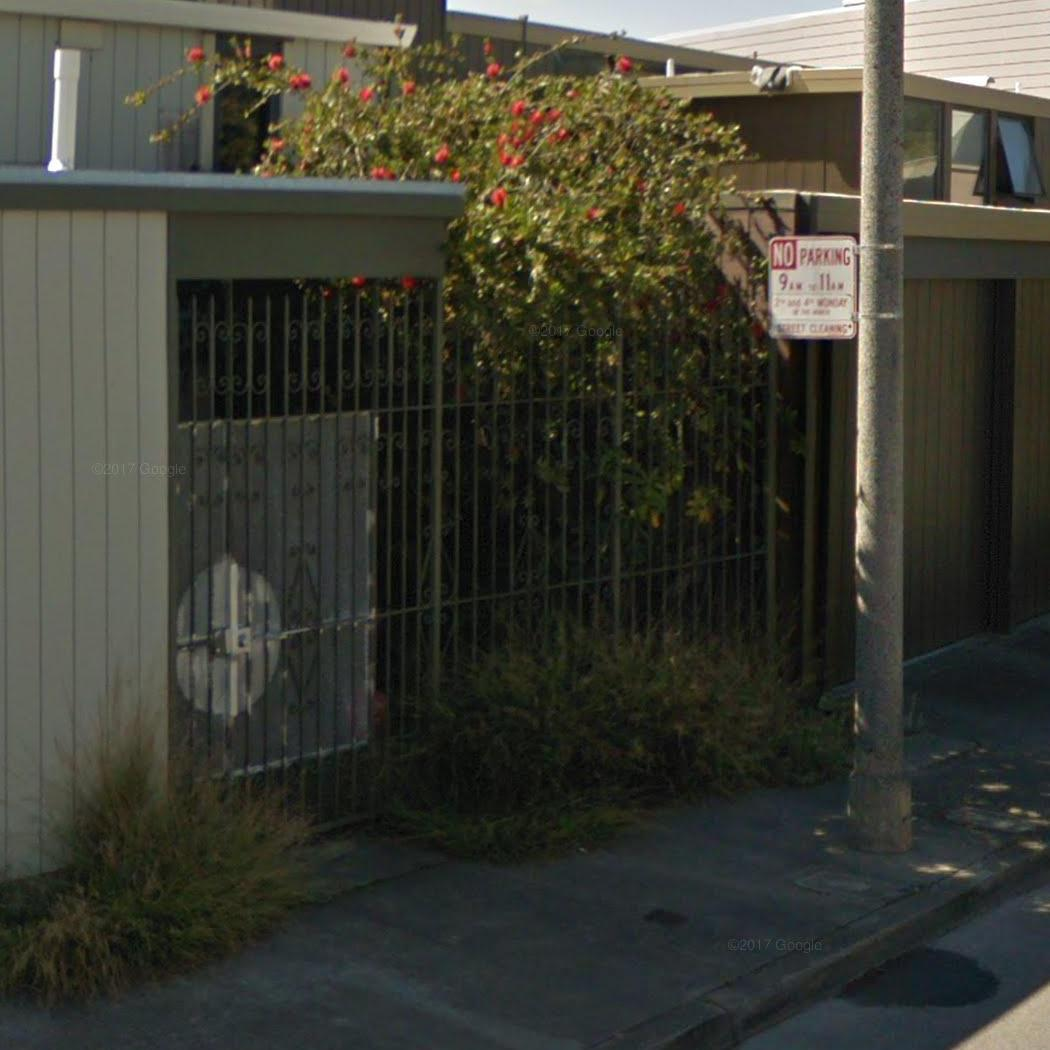No Parking: (763, 230, 862, 344)
